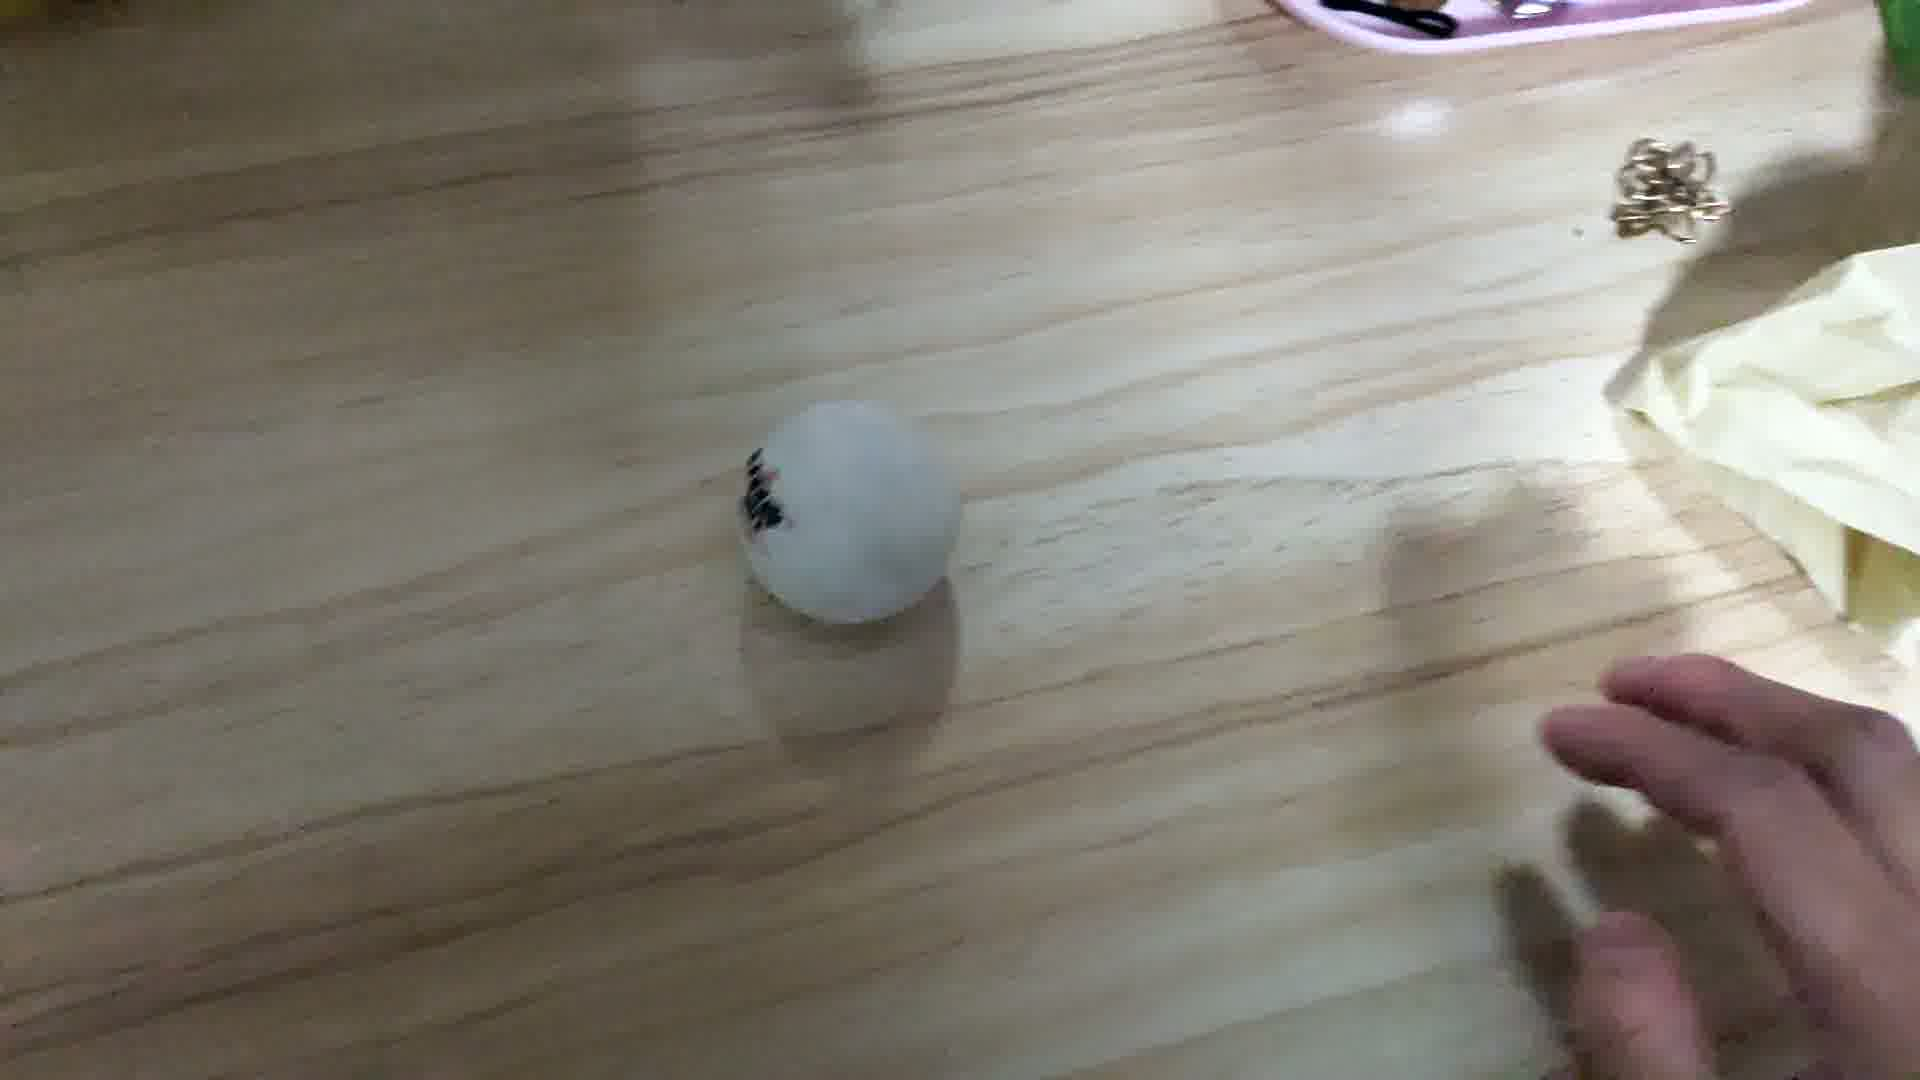Ball: (738, 396, 964, 626)
